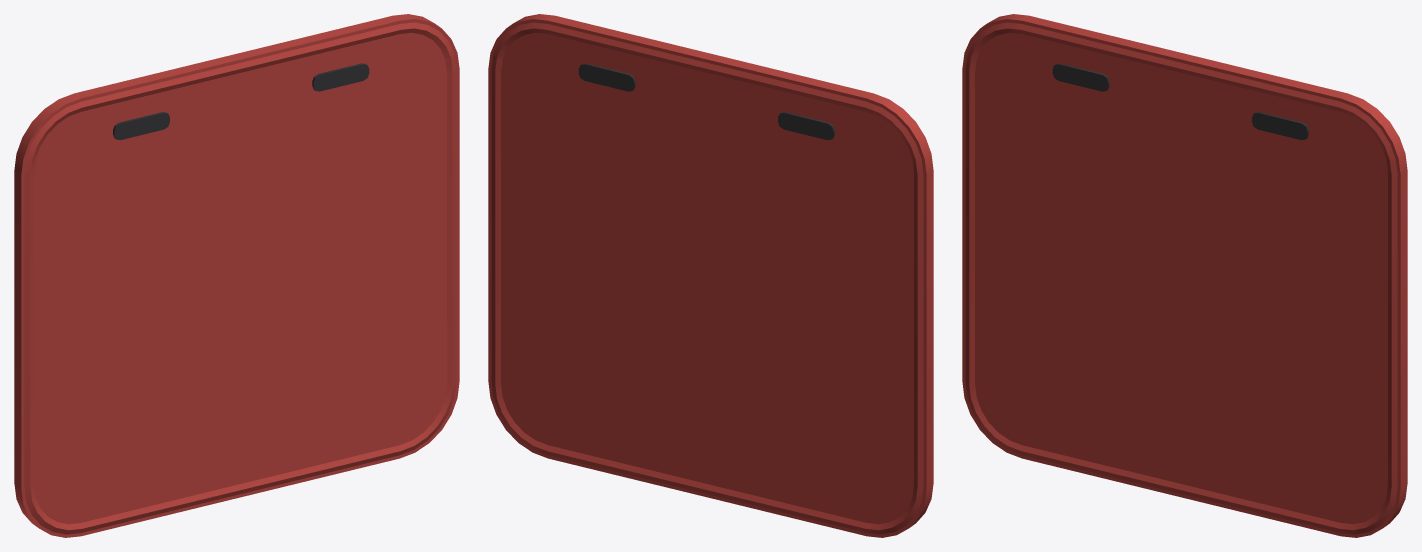
The model's file is plate.glb.
The picture shows the model from 3 angles, left to right: view 1: azimuth 30°, elevation 25°; view 2: azimuth 150°, elevation 25°; view 3: azimuth 330°, elevation 25°; orthographic projection.
Visible parts, largest first — view 1: lod0; view 2: lod0; view 3: lod0.
Boxes of the visible parts, x1,y1,x2,y2 form: lod0: (14, 14, 459, 537); lod0: (488, 14, 933, 537); lod0: (962, 14, 1407, 537).
Size of what is drawn, in the model's own units: 0.22 by 0.21 by 0.0084.
